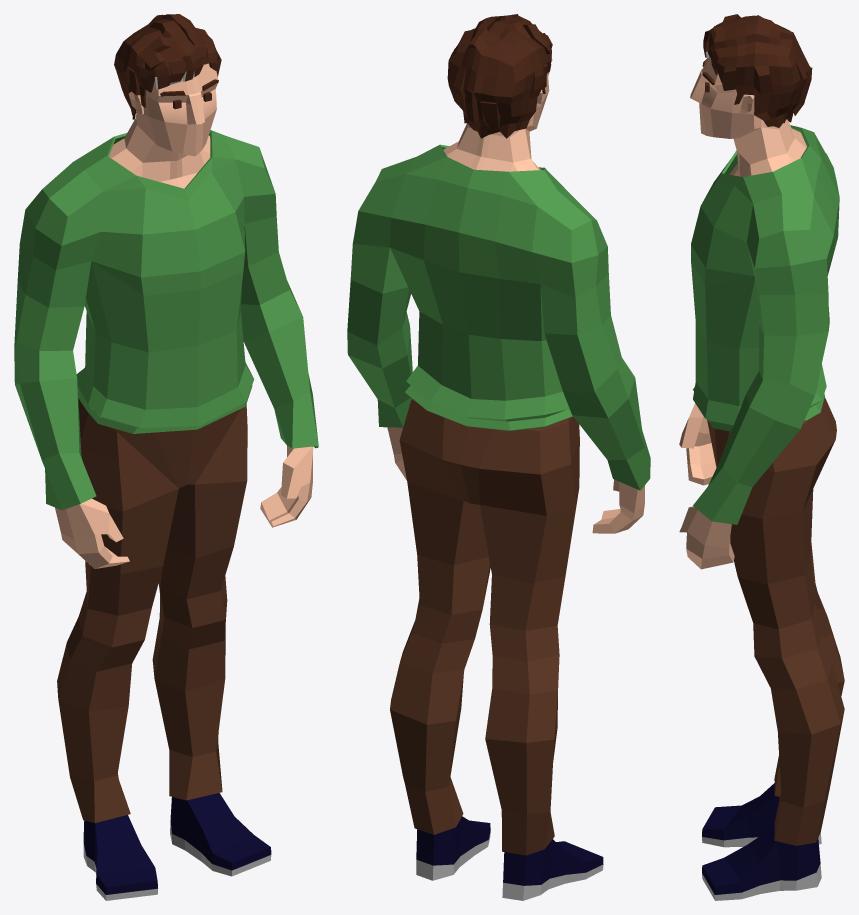
The model's file is New_JamesModel.fbx.
3 views of the same model, side by side, from view 1: azimuth 30°, elevation 25°; view 2: azimuth 150°, elevation 25°; view 3: azimuth 270°, elevation 25° (orthographic).
Parts seen in each view (by area): view 1: Cube.001; view 2: Cube.001; view 3: Cube.001.
Boxes of the visible parts, box(x1,y1,x2,y2) form: Cube.001: box(14, 14, 318, 900); Cube.001: box(347, 14, 650, 900); Cube.001: box(679, 14, 844, 900).
Bounding box in the file's own units: 57.9 × 170 × 30.07.
1 material, 1 textured.
